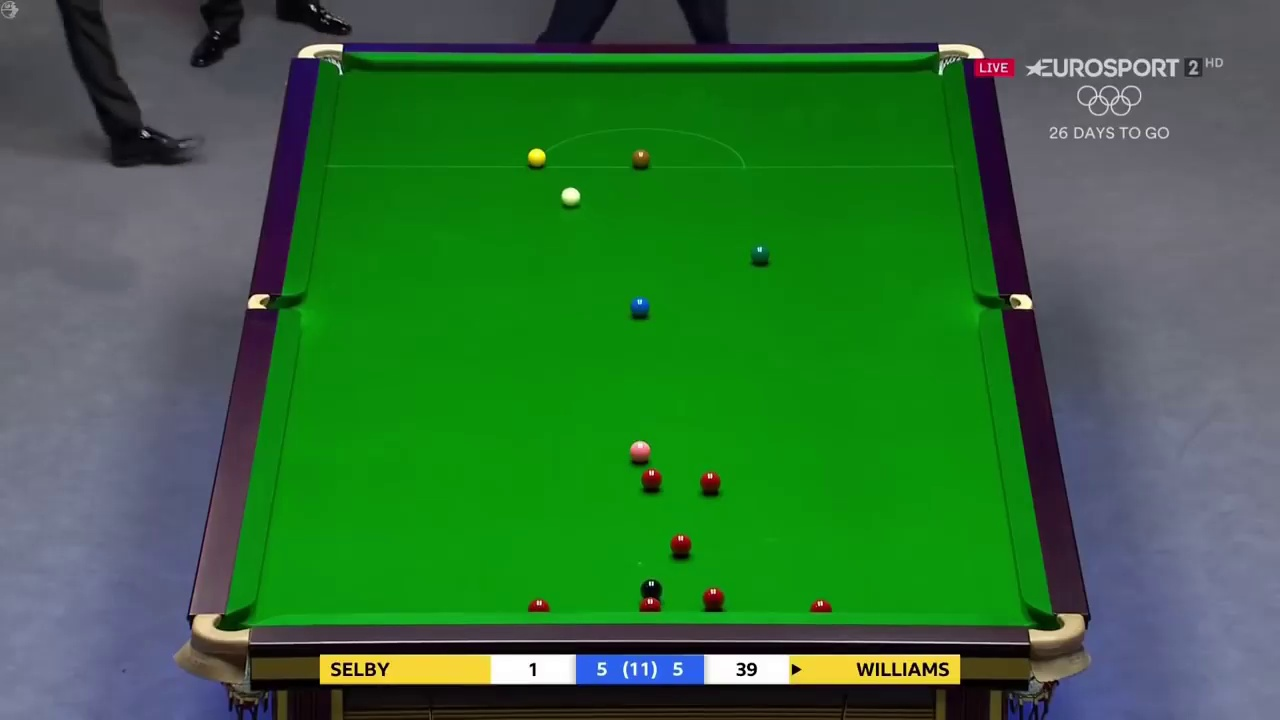ball: (695, 471, 721, 495), (701, 584, 724, 608), (628, 299, 652, 321), (670, 534, 692, 557), (523, 147, 548, 167), (749, 244, 772, 265), (630, 440, 653, 461), (558, 186, 581, 206), (639, 469, 661, 489), (630, 149, 649, 171)
